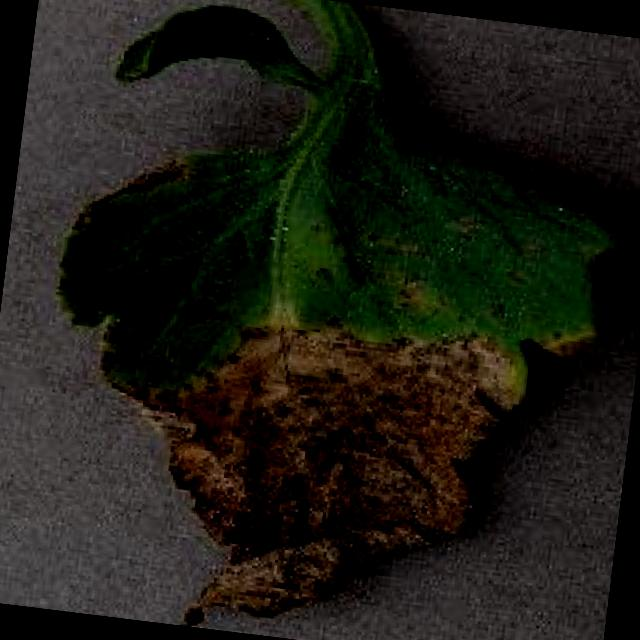bacterial spot: (59, 0, 624, 625)
